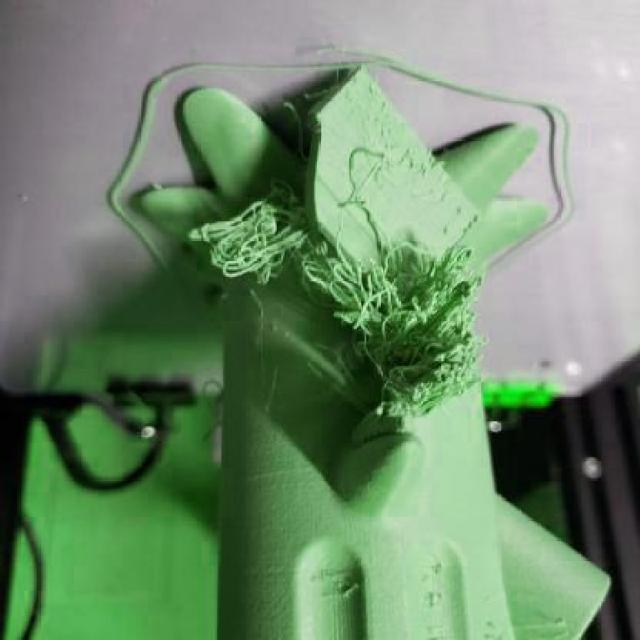Spaghetti: (303, 148, 485, 421), (185, 176, 304, 292), (280, 85, 338, 164)
